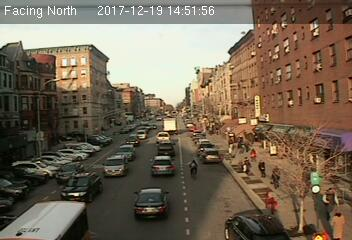bicycle: (189, 158, 199, 182)
car: (223, 214, 289, 240), (63, 173, 104, 204), (132, 188, 169, 219), (53, 160, 84, 182), (103, 155, 128, 177), (151, 156, 175, 177), (116, 144, 137, 161), (156, 141, 176, 157), (200, 148, 221, 162), (155, 131, 171, 141)
pedestrian: (259, 158, 269, 179), (243, 156, 251, 174)
truck: (162, 117, 178, 134)
